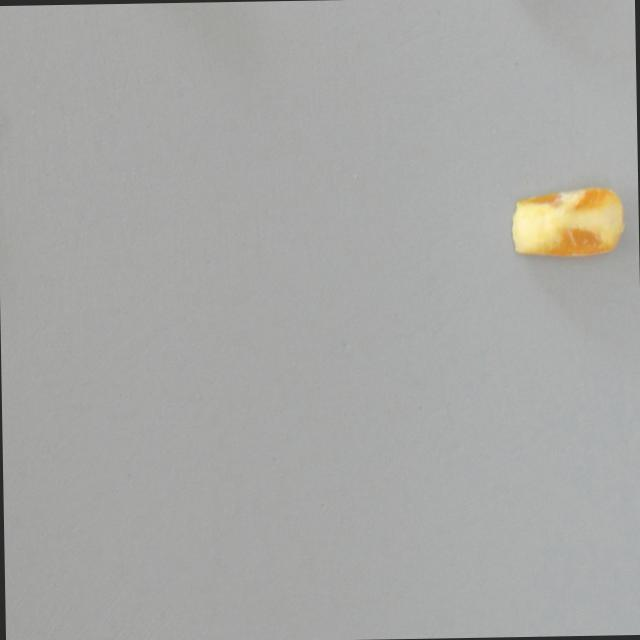pelicula: (512, 186, 629, 259)
